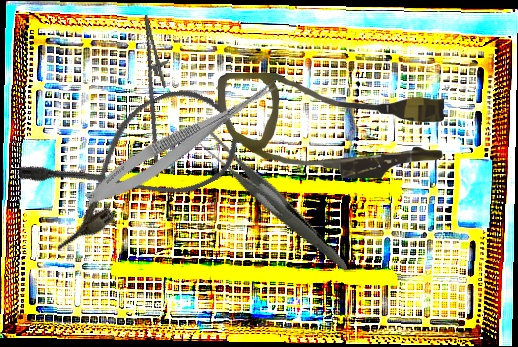Cannula: (13, 73, 252, 255), (218, 73, 444, 178)
Dressing Forceps: (196, 103, 348, 302)
Micro Scissor: (80, 66, 285, 215)
Needle Holder: (124, 12, 191, 177)
